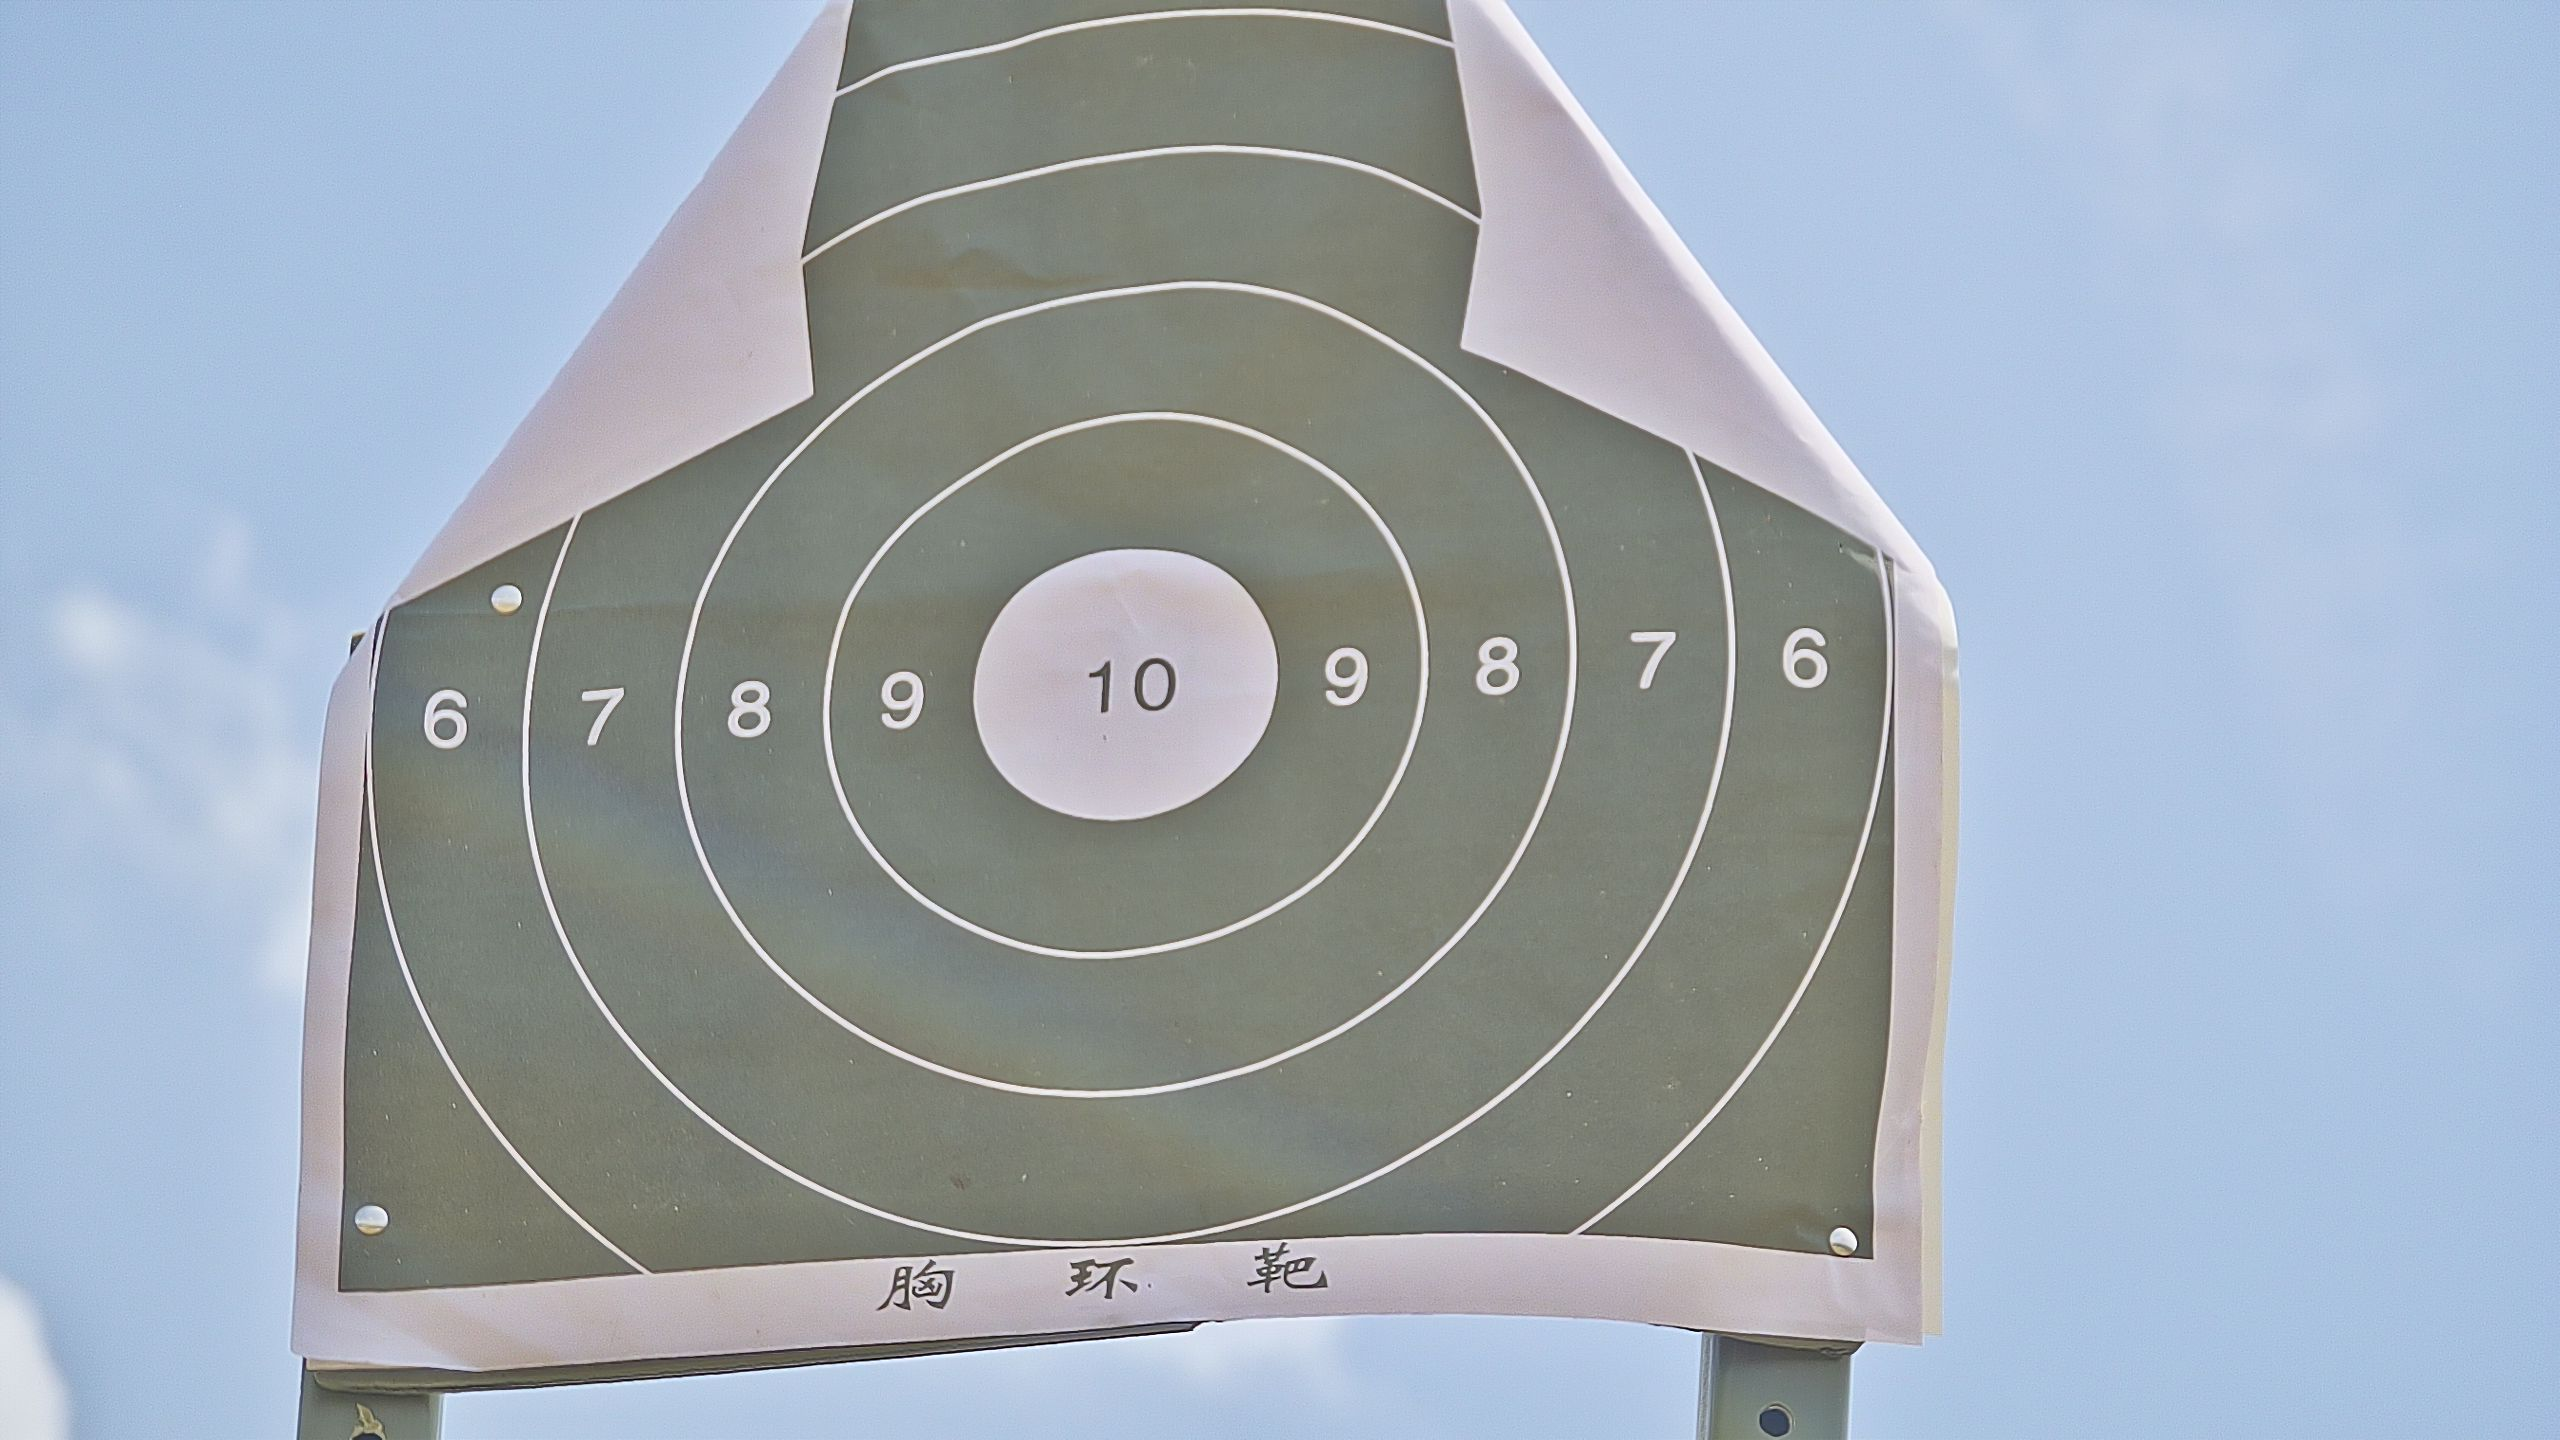kernel: (1120, 687, 1122, 693)
target: (334, 12, 1897, 1296)
ten: (972, 542, 1284, 826)
